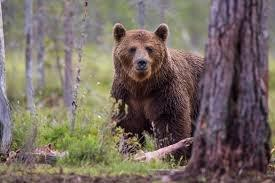bear: (112, 22, 204, 162)
